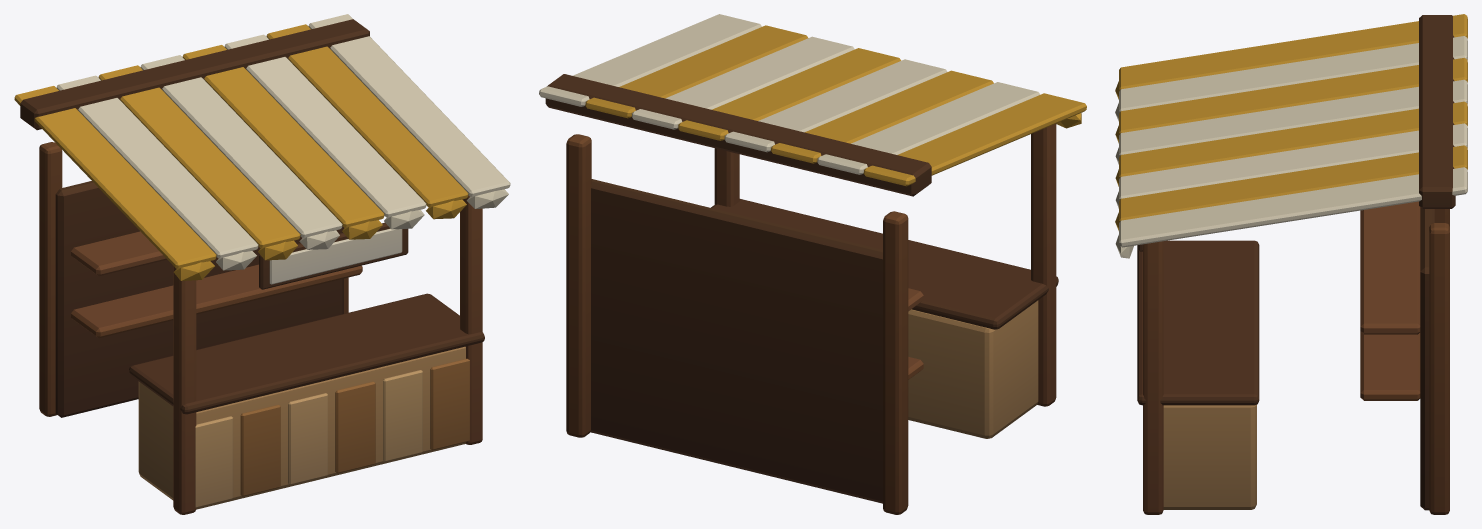
Rendered from stall_mustard.glb.
3 views of the same model, side by side, from view 1: azimuth 30°, elevation 25°; view 2: azimuth 150°, elevation 25°; view 3: azimuth 270°, elevation 25° (orthographic). The views are drawn at different scales.
Visible parts, largest first — view 1: stall_mustard; view 2: stall_mustard; view 3: stall_mustard.
Boxes of the visible parts, left/top/right/bottom form: stall_mustard: left=14, top=14, right=510, bottom=514; stall_mustard: left=539, top=14, right=1086, bottom=514; stall_mustard: left=1115, top=14, right=1467, bottom=514.
Size of the model in its own units: 3.4 by 3.06 by 2.9.
